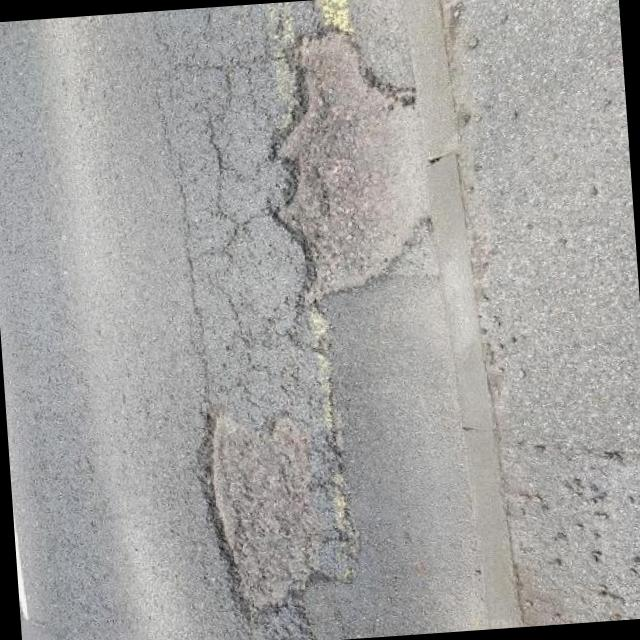pothole: (245, 19, 436, 312), (179, 396, 361, 637)
